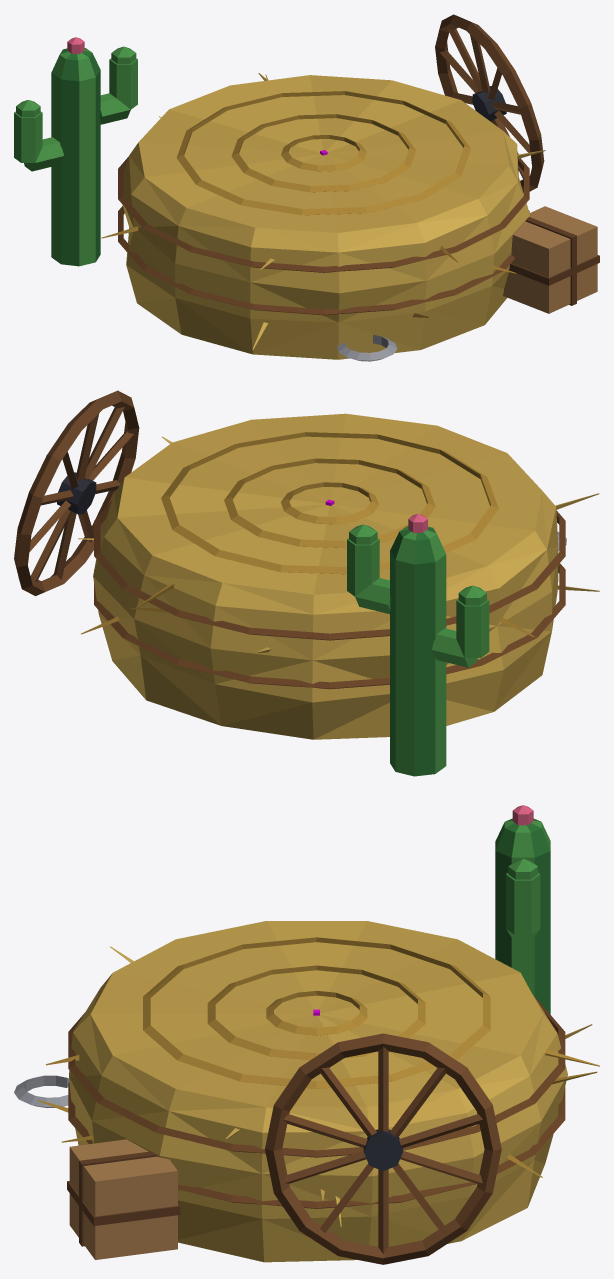
The model's file is Platform_CowboyShiba.fbx.
3 renders of one model, top to bottom at view 1: azimuth 30°, elevation 25°; view 2: azimuth 150°, elevation 25°; view 3: azimuth 270°, elevation 25°, orthographic. The views are drawn at different scales.
Visible parts, largest first — view 1: Body.001; view 2: Body.001; view 3: Body.001.
Part boxes in pixels (left/top/right/bottom): Body.001: left=14, top=14, right=599, bottom=361; Body.001: left=14, top=390, right=599, bottom=776; Body.001: left=14, top=805, right=599, bottom=1264.
Size of the model in its own units: 9.16 by 4.38 by 8.8.
